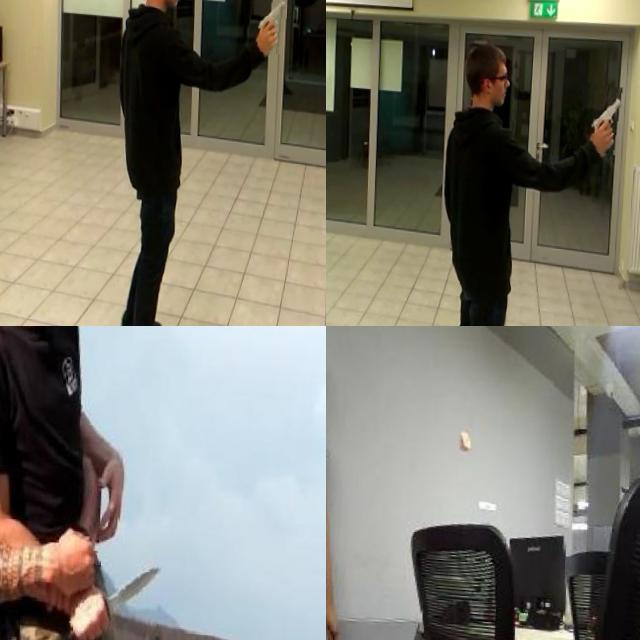-: (70, 543, 164, 640)
gun-knife-thesis - v11 Yolov5 augmented: (584, 76, 624, 146), (247, 0, 290, 47)
